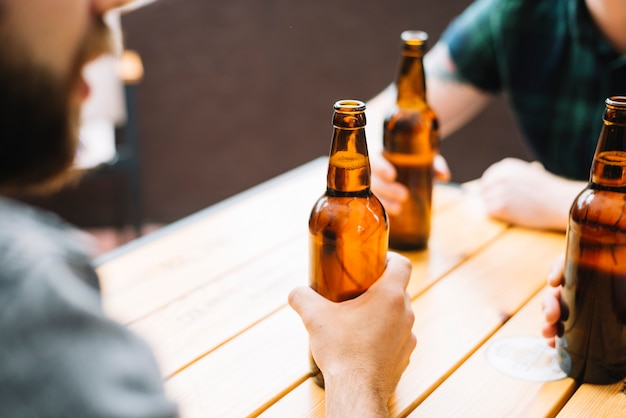alcohol: (308, 99, 390, 387), (556, 95, 626, 381), (383, 32, 441, 252)
